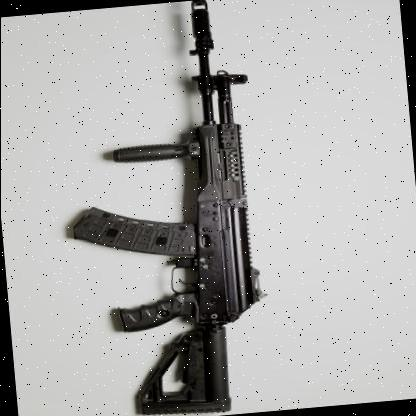rifle: (36, 0, 295, 416)
